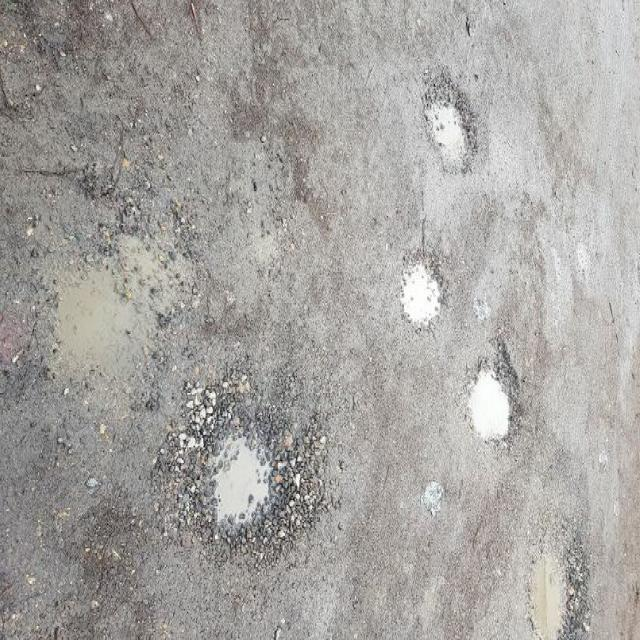Pothole: (162, 360, 335, 562), (521, 497, 592, 640), (463, 346, 527, 449), (423, 61, 480, 172), (400, 242, 449, 332)
